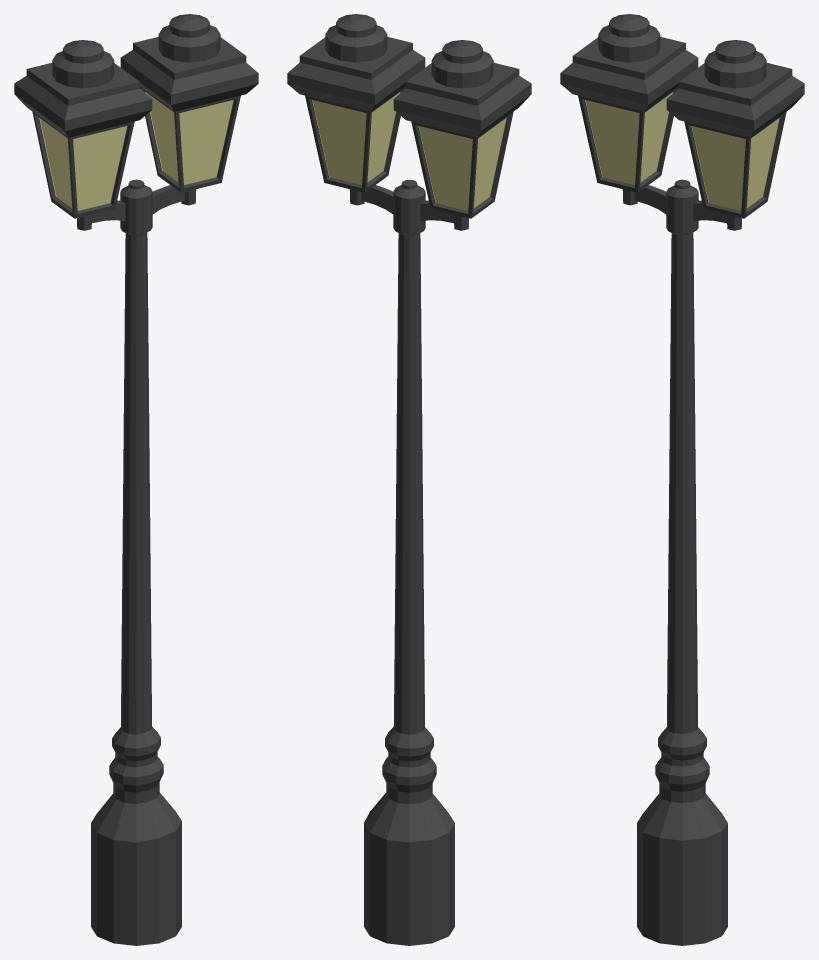
File: street_lamp_double.fbx
3 views of the same model, side by side, from view 1: azimuth 30°, elevation 25°; view 2: azimuth 150°, elevation 25°; view 3: azimuth 330°, elevation 25° (orthographic).
Parts seen in each view (by area): view 1: rescale1_lamp_double_lamp_base, lamp_glass1; view 2: rescale1_lamp_double_lamp_base, lamp_glass1; view 3: rescale1_lamp_double_lamp_base, lamp_glass1.
Part boxes in pixels (left/top/right/bottom): rescale1_lamp_double_lamp_base: left=14, top=14, right=258, bottom=945; lamp_glass1: left=32, top=87, right=240, bottom=218; rescale1_lamp_double_lamp_base: left=287, top=14, right=531, bottom=945; lamp_glass1: left=305, top=87, right=513, bottom=218; rescale1_lamp_double_lamp_base: left=560, top=14, right=804, bottom=945; lamp_glass1: left=578, top=87, right=786, bottom=218.
Bounding box in the file's own units: 71.04 × 314 × 32.11.
